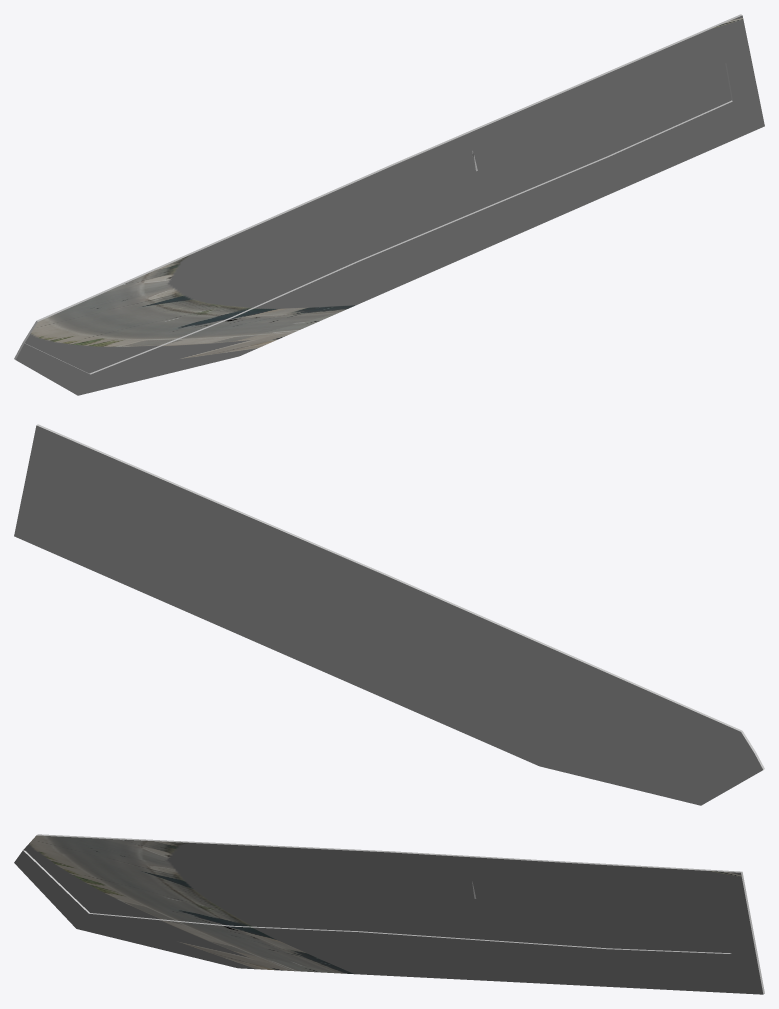
3 renders of one model, top to bottom at view 1: azimuth 30°, elevation 25°; view 2: azimuth 150°, elevation 25°; view 3: azimuth 330°, elevation 25°, orthographic.
Visible parts, largest first — view 1: final_cut_road_model; view 2: final_cut_road_model; view 3: final_cut_road_model.
Boxes of the visible parts, box(x1,y1,x2,y2) form: final_cut_road_model: box(14, 14, 764, 395); final_cut_road_model: box(14, 424, 764, 805); final_cut_road_model: box(14, 834, 764, 994).
Bounding box in the file's own units: 108 × 30 × 0.4.
3 materials, 1 textured.
